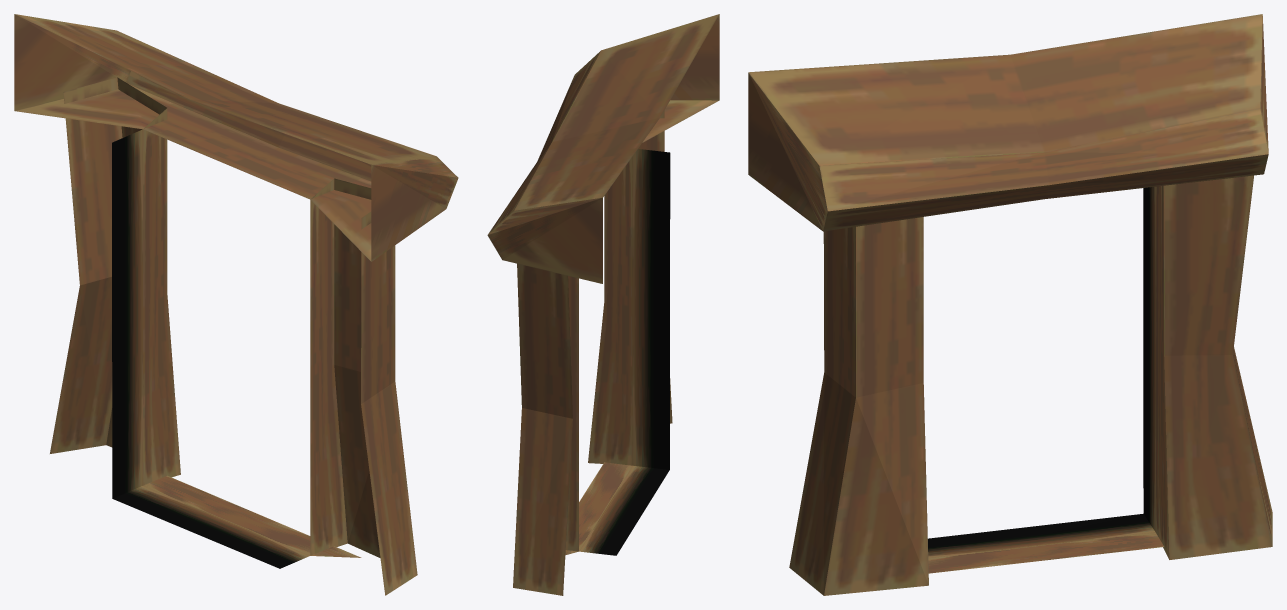
File: Indoor Door.fbx
3 renders of one model, left to right at view 1: azimuth 30°, elevation 25°; view 2: azimuth 150°, elevation 25°; view 3: azimuth 270°, elevation 25°, orthographic. The views are drawn at different scales.
Parts seen in each view (by area): view 1: Island.008; view 2: Island.008; view 3: Island.008.
Boxes of the visible parts, left/top/right/bottom form: Island.008: left=14, top=14, right=458, bottom=595; Island.008: left=487, top=14, right=719, bottom=595; Island.008: left=748, top=14, right=1272, bottom=595.
Size of the model in its own units: 64360 by 118374 by 116429.
